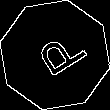P_SW: (24, 26, 86, 84)
